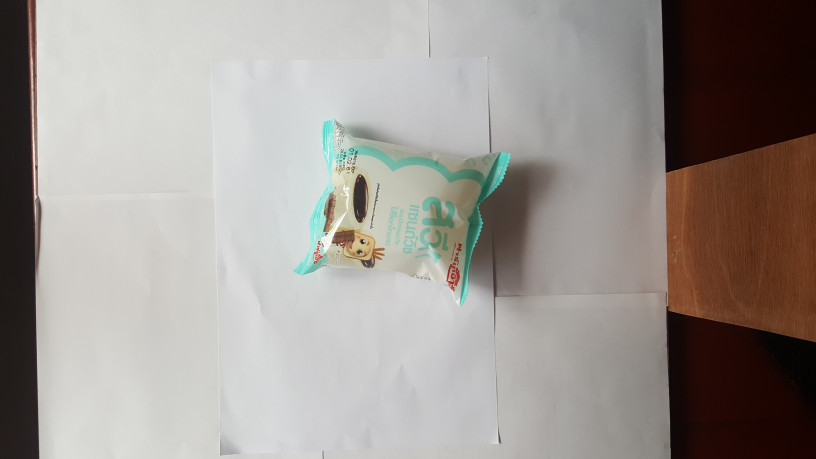farmhouse-sweetsandwich-chocolate: (293, 117, 511, 308)
